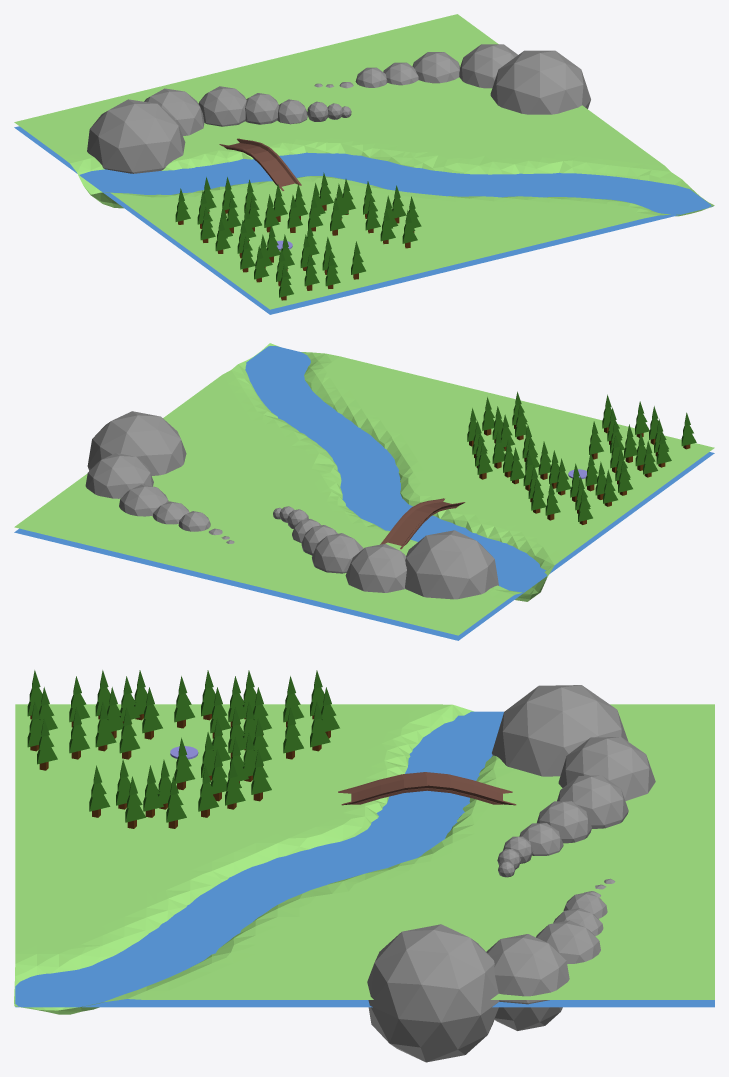
Rendered from Spawn.glb.
3 renders of one model, top to bottom at view 1: azimuth 30°, elevation 25°; view 2: azimuth 150°, elevation 25°; view 3: azimuth 270°, elevation 25°, orthographic. The views are drawn at different scales.
Visible parts, largest first — view 1: Land, River, Icosphere, Icosphere.001, Cube.002; view 2: Land, River, Icosphere, Icosphere.001, Cube.002; view 3: Land, River, Icosphere.001, Icosphere, Cube.002.
Boxes of the visible parts, x1,y1,x2,y2 form: Land: [14, 14, 714, 309]; River: [14, 126, 713, 314]; Icosphere: [87, 86, 351, 173]; Icosphere.001: [314, 44, 590, 114]; Cube.002: [219, 138, 301, 190]; Land: [14, 343, 714, 635]; River: [14, 346, 714, 640]; Icosphere: [273, 506, 498, 599]; Icosphere.001: [85, 411, 234, 543]; Cube.002: [380, 498, 465, 549]; Land: [14, 704, 714, 1014]; River: [15, 711, 714, 1007]; Icosphere.001: [367, 878, 615, 1062]; Icosphere: [492, 685, 655, 877]; Cube.002: [338, 772, 516, 805].
Size of the model in its own units: 52.99 by 10.27 by 50.09.
